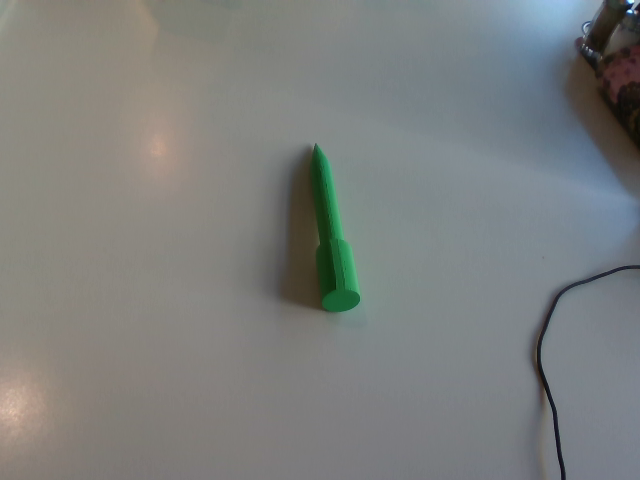Probe: (300, 138, 371, 318)
